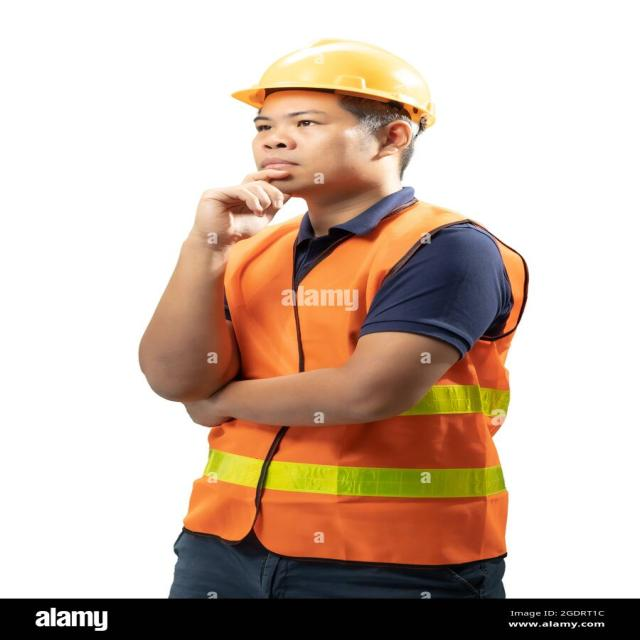helmet: (228, 42, 466, 120)
no-goggles: (240, 111, 409, 138)
vest: (181, 207, 544, 581)
